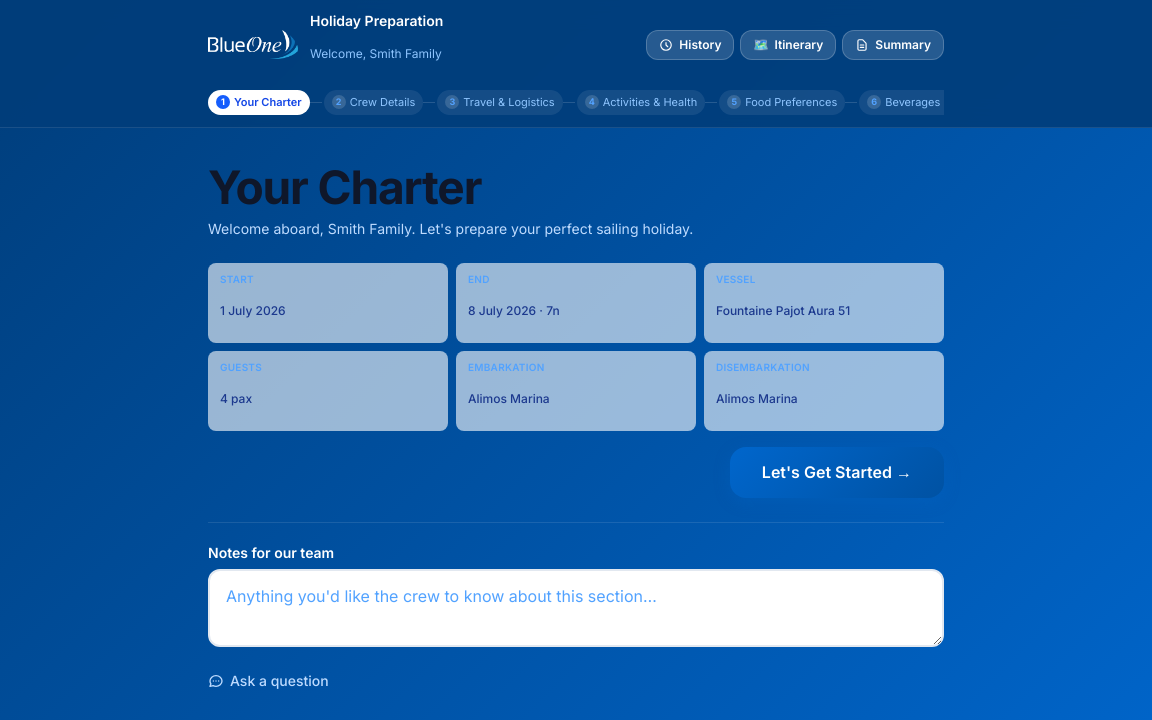
Test: ClientSpaceClient — Step 0: Charter Overview › advances to Crew Details on "Let's Get Started"
Expected: the text "Holiday Preparation" is shown, [310,12,443,29]
Step 1. Click the button "Let's Get Started →" → click(837, 473), box [730,447,944,498]
(page scrolled)
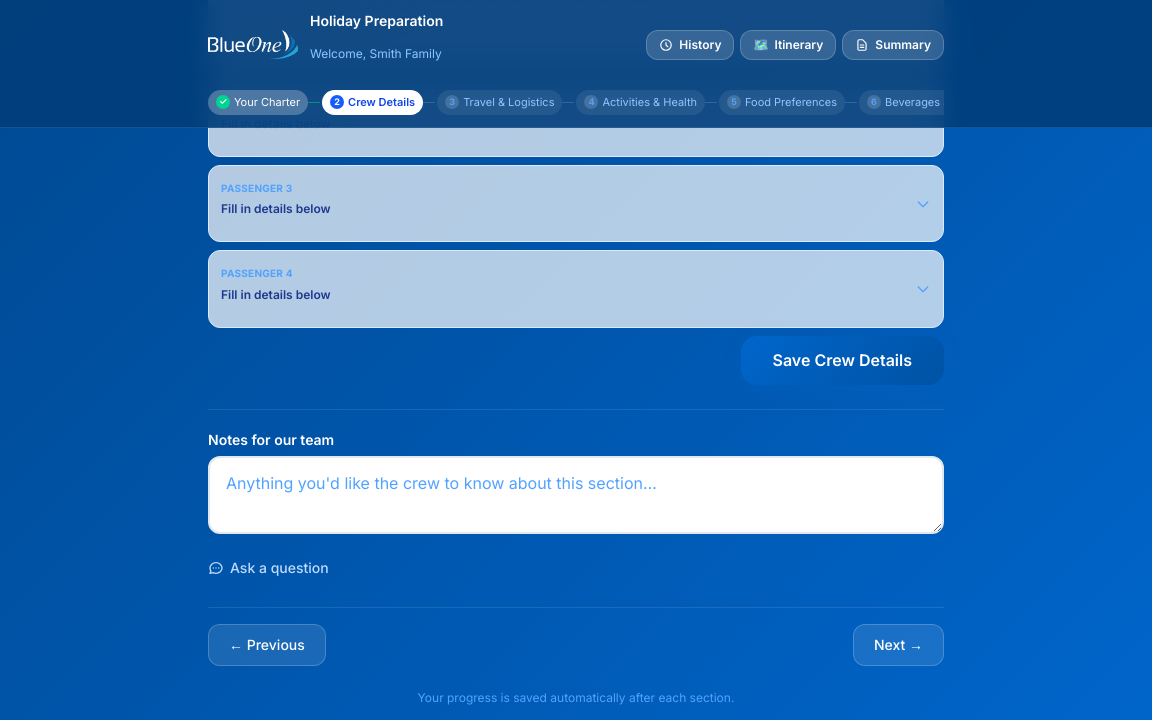
Result: the button "Save Crew Details" is shown at [740,336,944,385]
